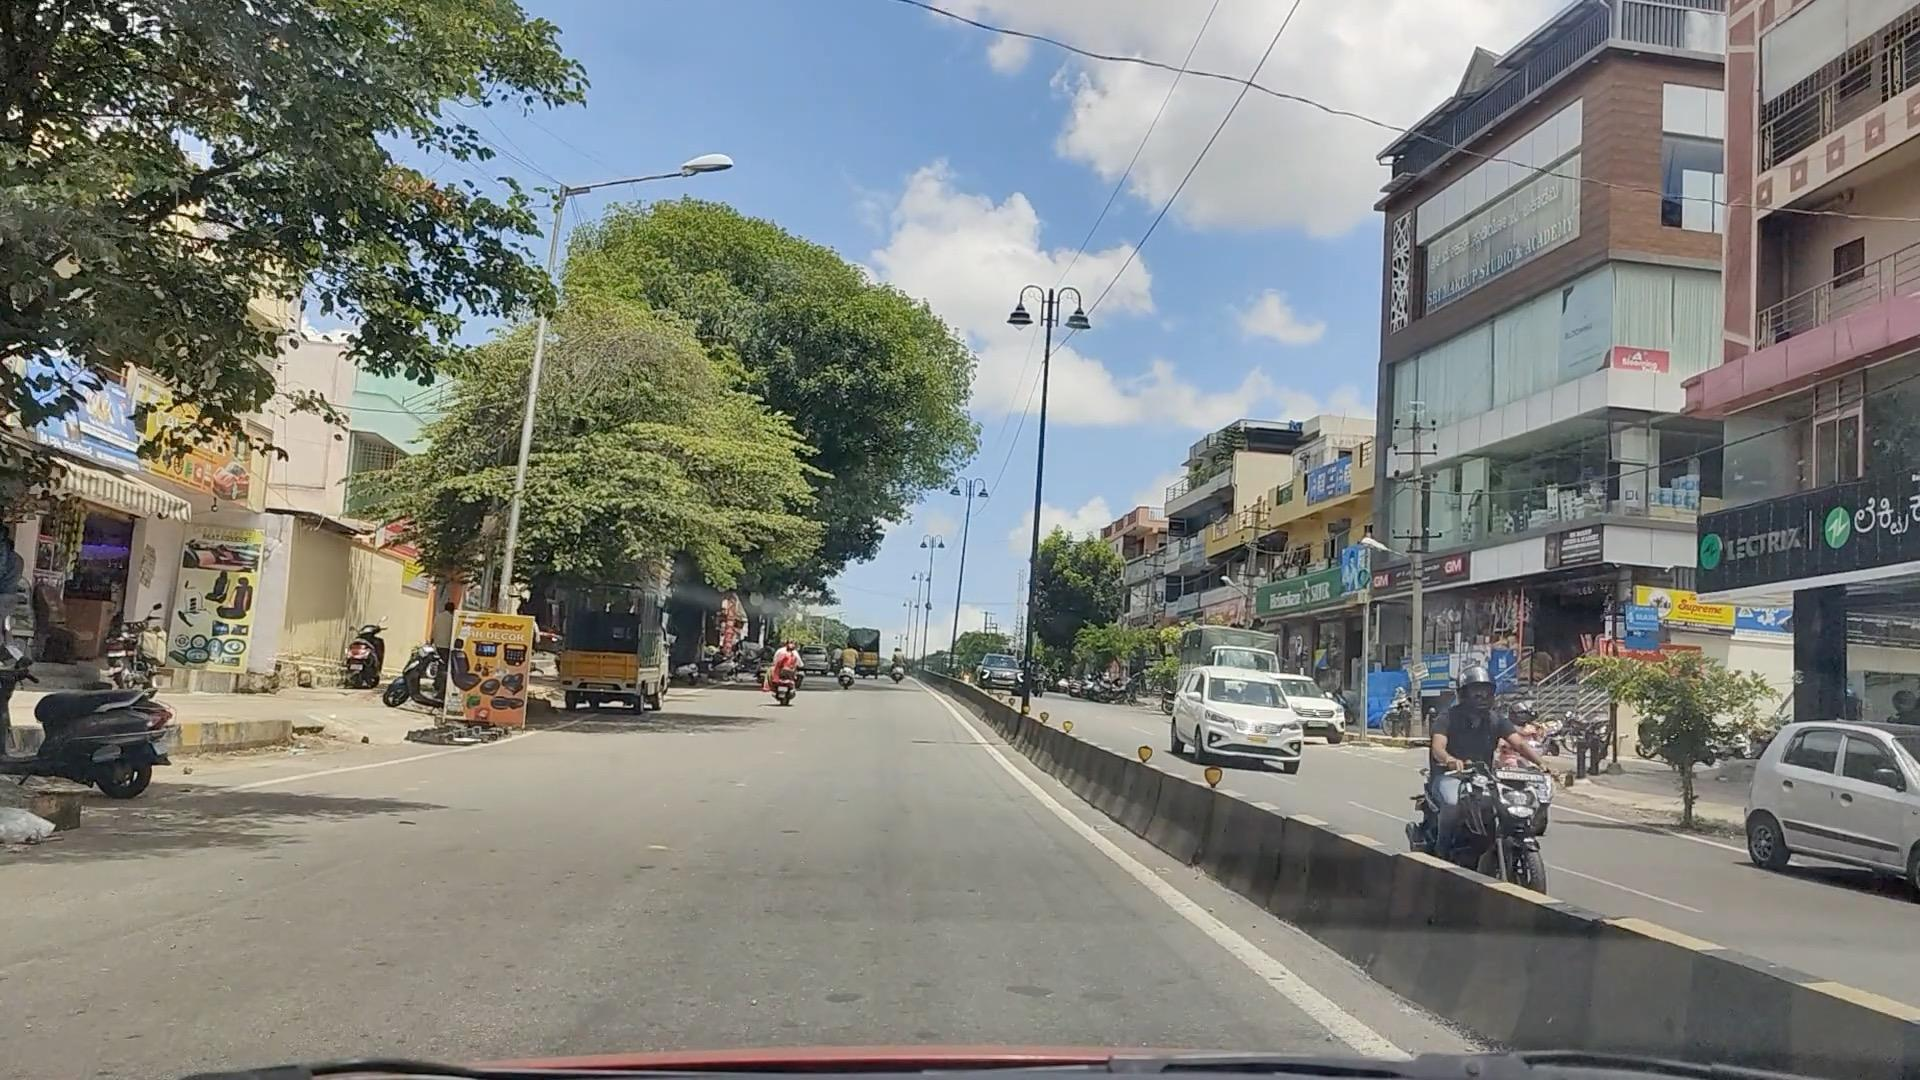HMV: (550, 587, 673, 717)
